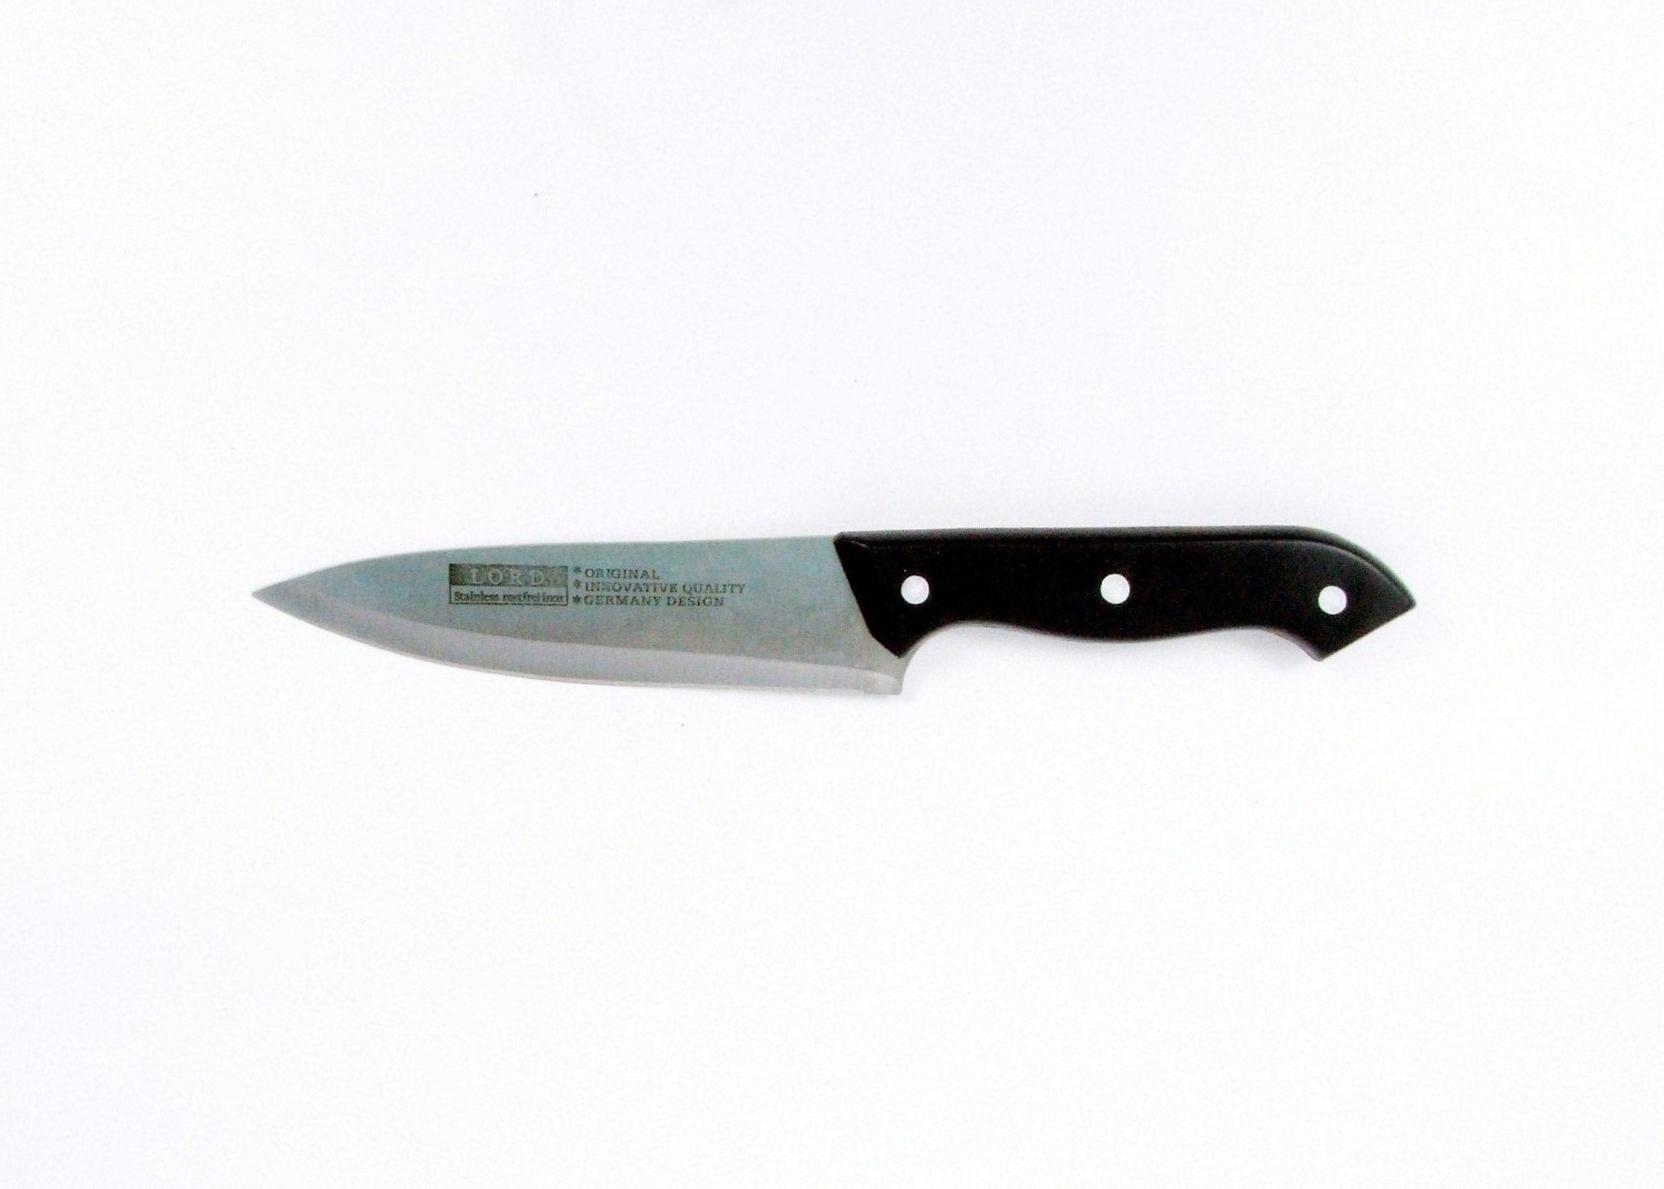knife: (251, 530, 1425, 694)
